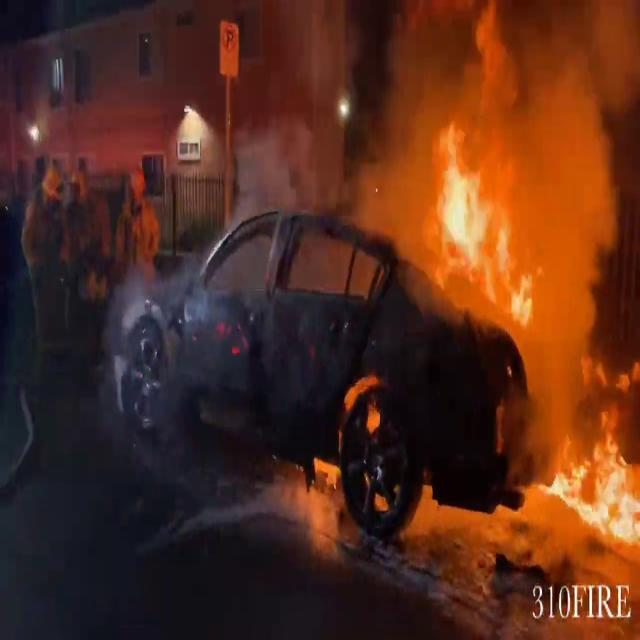Fire: (430, 142, 532, 326), (540, 418, 640, 552)
Smoke: (375, 0, 640, 218), (224, 0, 360, 224)
